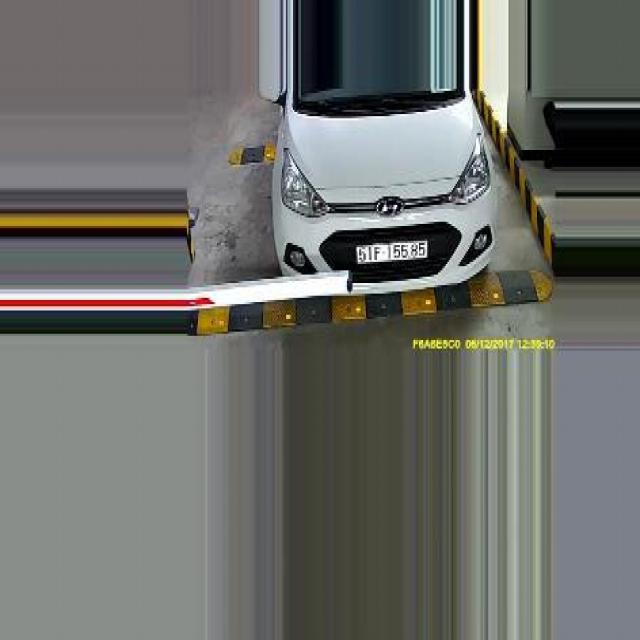License-Plates: (352, 228, 436, 276)
